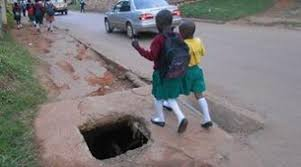Manhole-Open: (77, 111, 165, 159)
car: (101, 1, 187, 32)
human: (132, 11, 193, 130), (180, 17, 218, 134), (44, 1, 58, 39), (35, 1, 49, 38), (11, 1, 24, 28), (28, 1, 37, 28)
